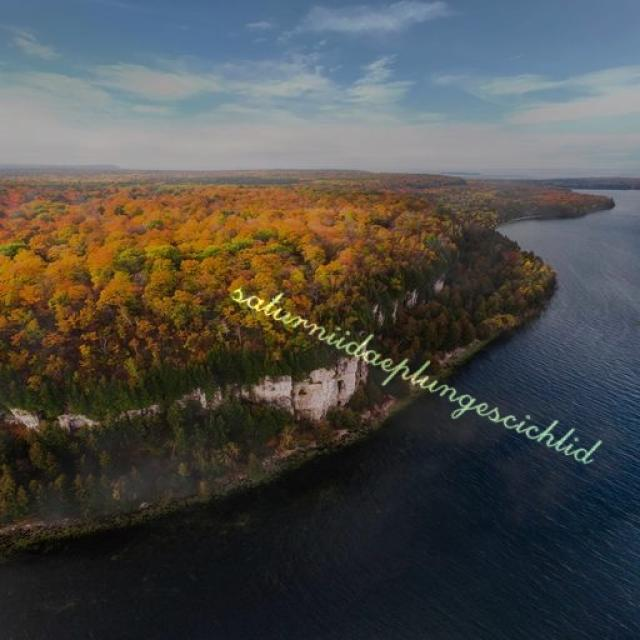watermark: (222, 269, 616, 472)
